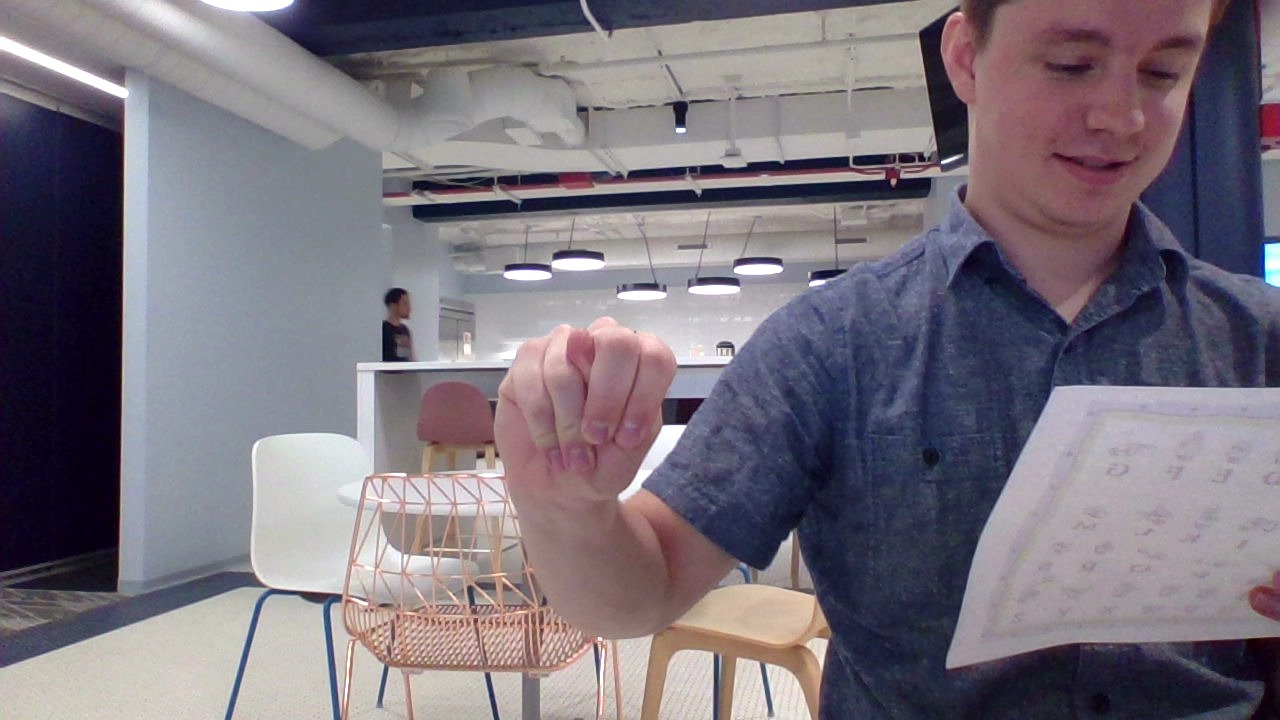n: (458, 290, 711, 530)
